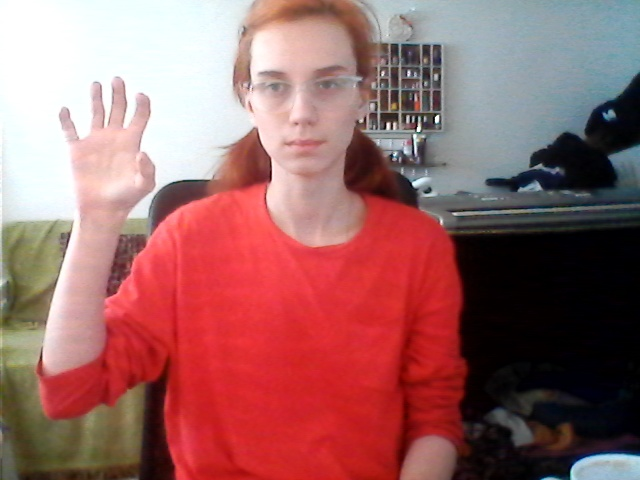budova: (54, 72, 164, 232)
